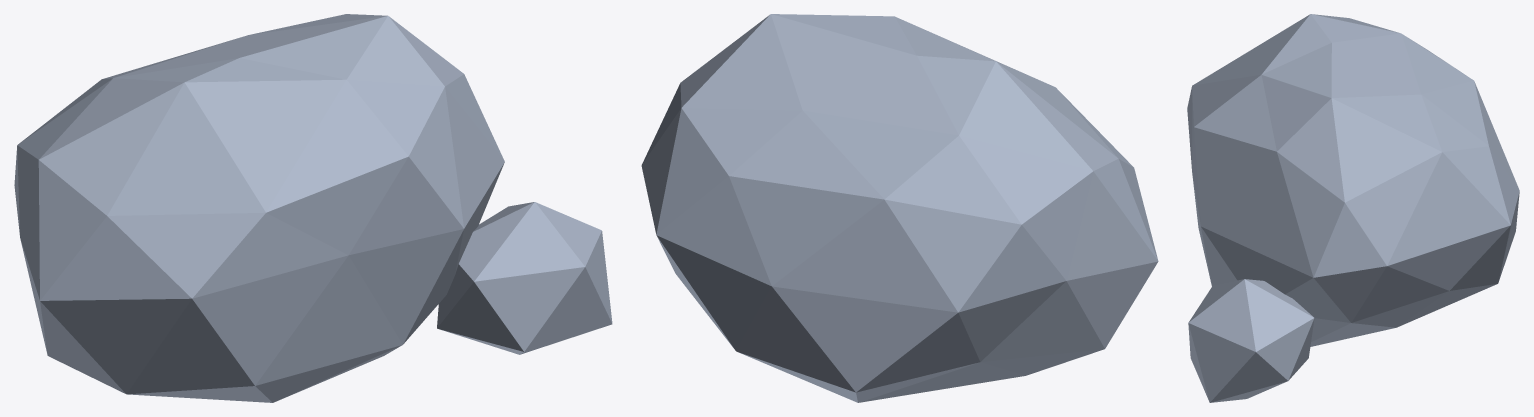
The model's file is rock.glb.
The picture shows the model from 3 angles, left to right: view 1: azimuth 30°, elevation 25°; view 2: azimuth 150°, elevation 25°; view 3: azimuth 270°, elevation 25°; orthographic projection. The views are drawn at different scales.
Visible parts, largest first — view 1: RockMesh; view 2: RockMesh; view 3: RockMesh.
Boxes of the visible parts, left/top/right/bottom form: RockMesh: left=14, top=14, right=612, bottom=402; RockMesh: left=641, top=14, right=1158, bottom=402; RockMesh: left=1187, top=14, right=1519, bottom=402.
Size of the model in its own units: 1.74 by 1.01 by 1.12.
